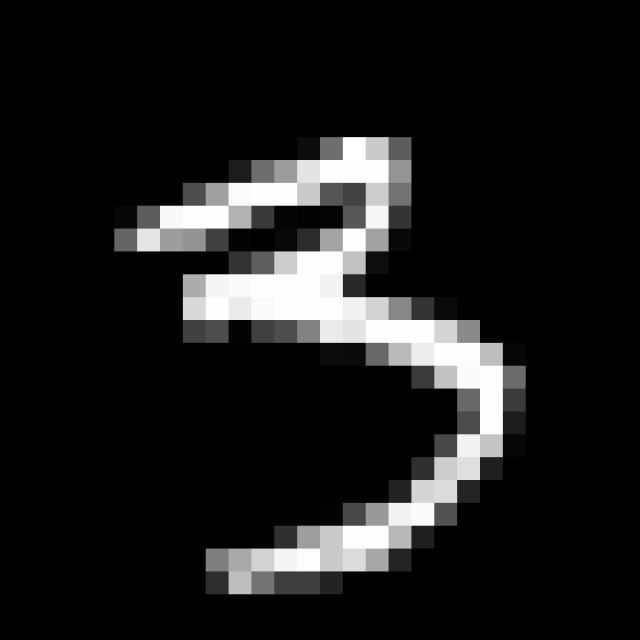three -3-: (116, 125, 530, 602)
